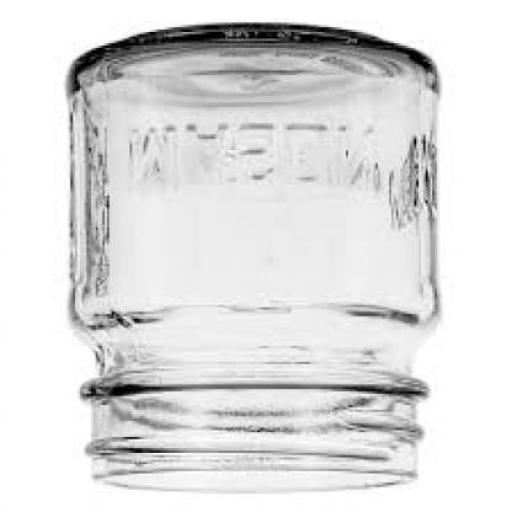glass: (68, 27, 439, 496)
